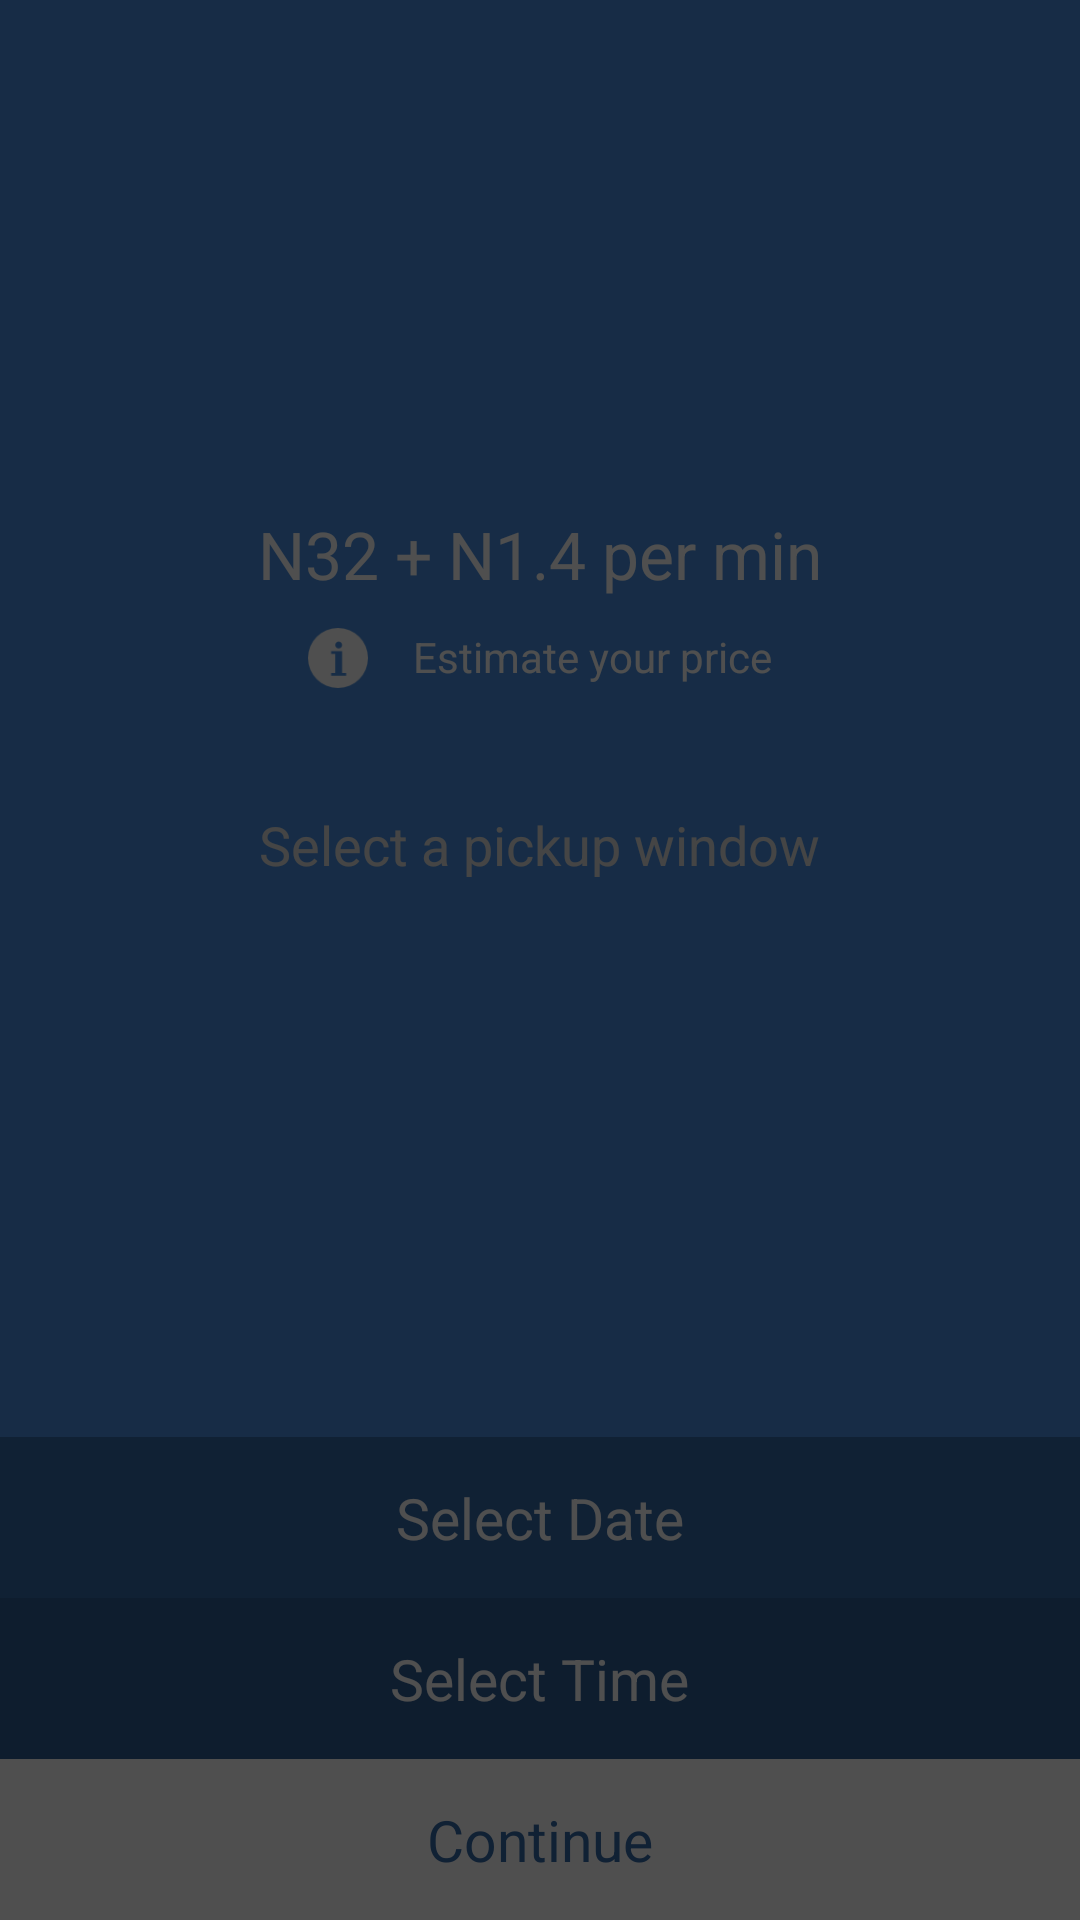

Screen size 1080px x 1920px. Icon name, then its center in pixels as (x,y):
info circular: (338,658)
